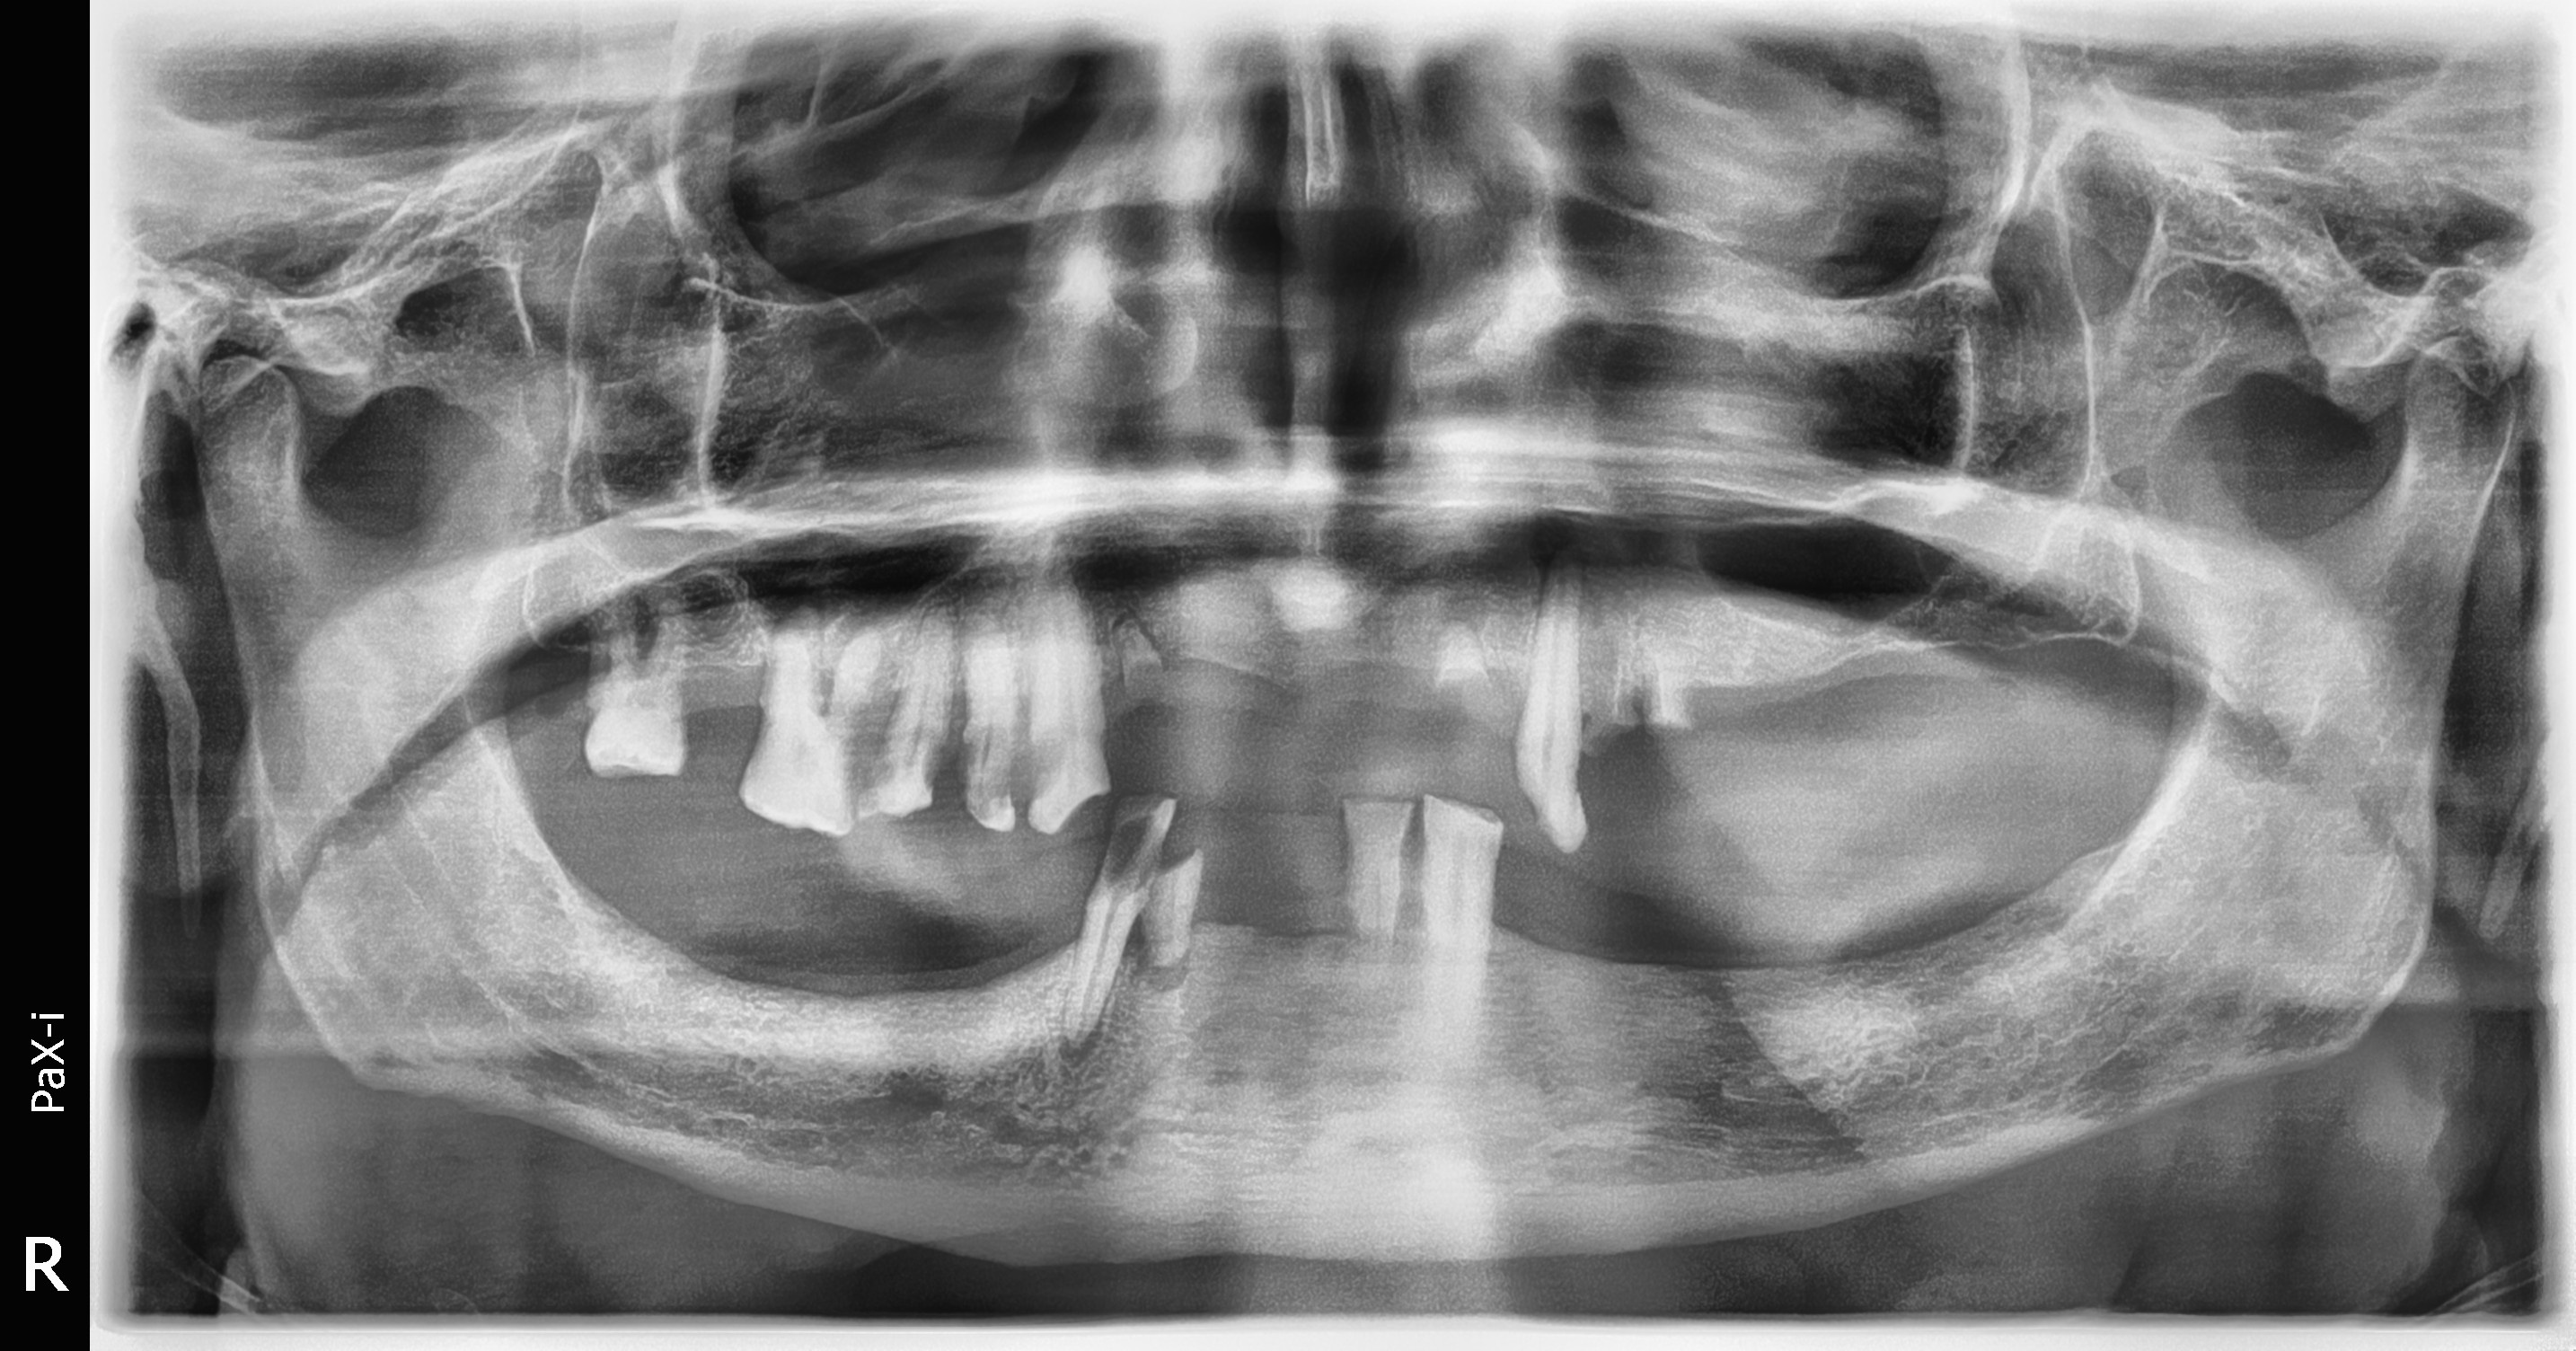API: (1508, 494, 1605, 579), (1124, 935, 1208, 1014), (1421, 583, 1508, 658), (1046, 1009, 1118, 1084)
CAR: (1085, 796, 1184, 900), (1029, 717, 1078, 796), (854, 722, 900, 796), (915, 739, 946, 801), (954, 733, 985, 777)
ROT: (1121, 845, 1240, 963), (1579, 593, 1654, 765), (1411, 622, 1516, 739), (1101, 600, 1179, 727), (1634, 618, 1695, 734)
